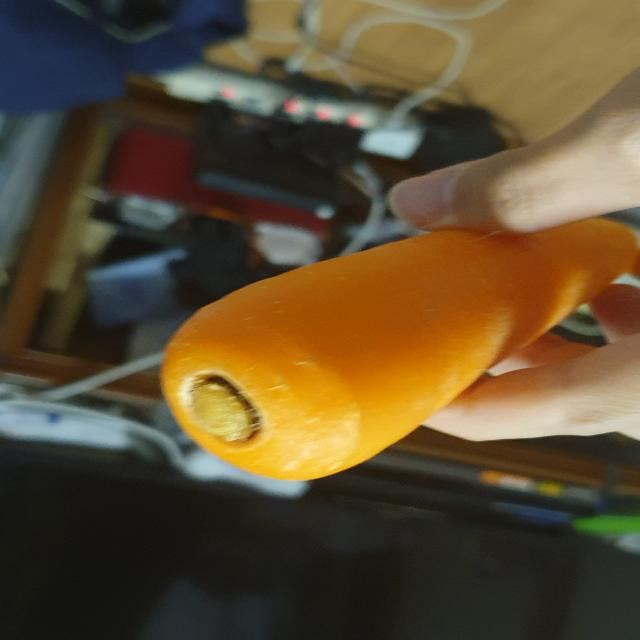carrot: (155, 208, 640, 491)
